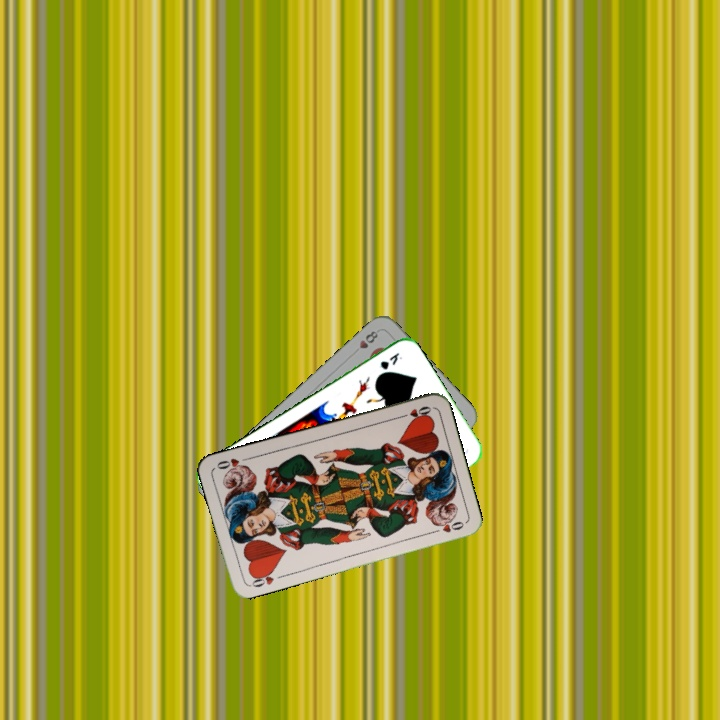GK: (375, 348, 405, 373)
H8: (349, 327, 380, 357)
HO: (394, 402, 434, 422), (245, 566, 277, 590)
